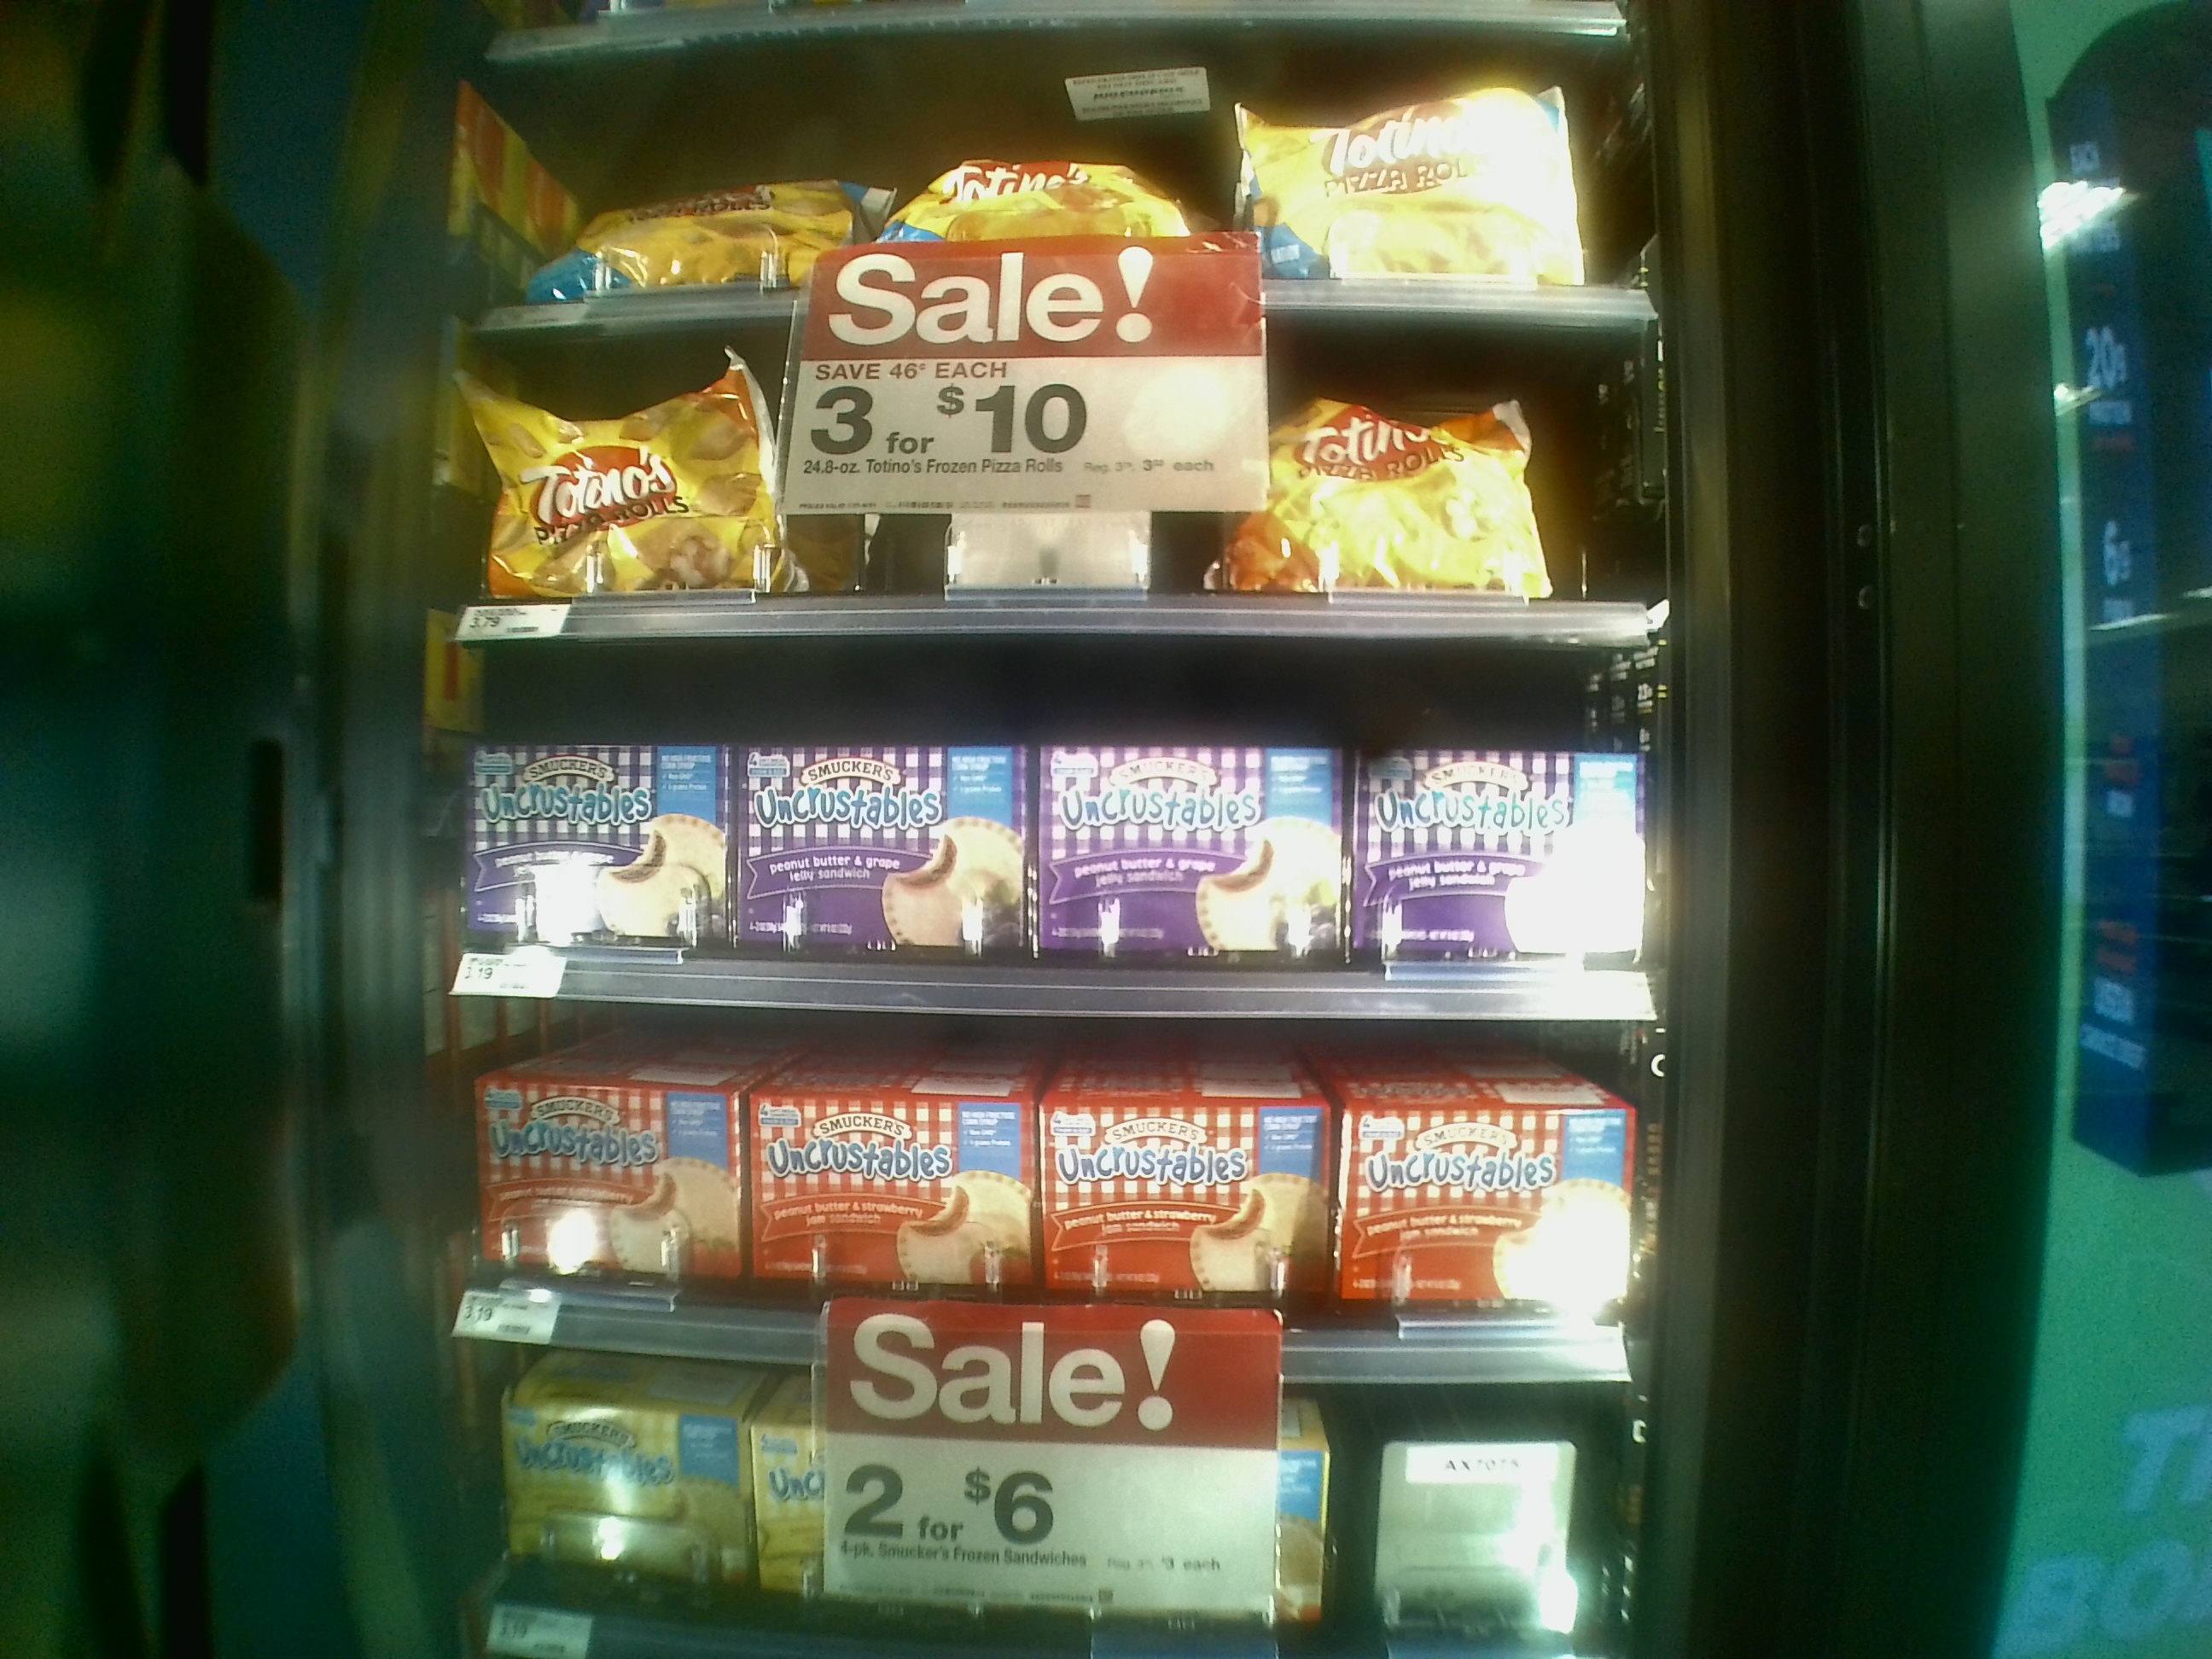shelf: (413, 979, 1646, 1378), (432, 638, 1656, 1030), (425, 331, 1655, 645), (460, 12, 1639, 295)
